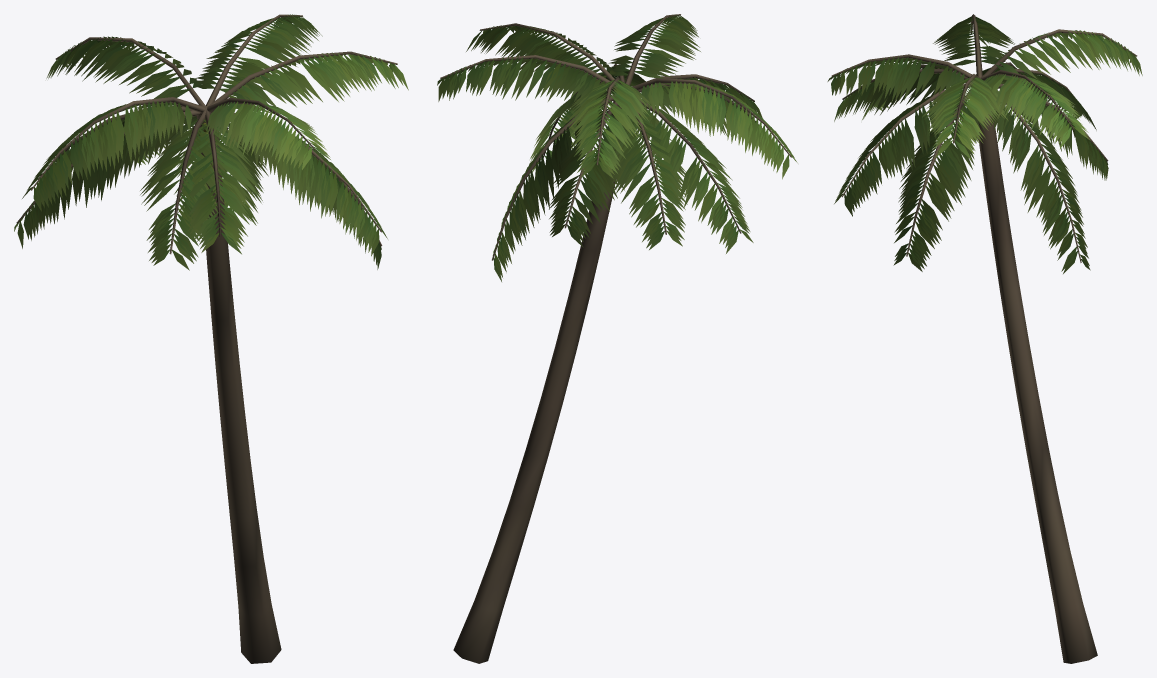
Rendered from palm-b.lod1.glb.
3 renders of one model, left to right at view 1: azimuth 30°, elevation 25°; view 2: azimuth 150°, elevation 25°; view 3: azimuth 270°, elevation 25°, orthographic. The views are drawn at different scales.
Size of the model in its own units: 5.77 by 10.08 by 5.01.
